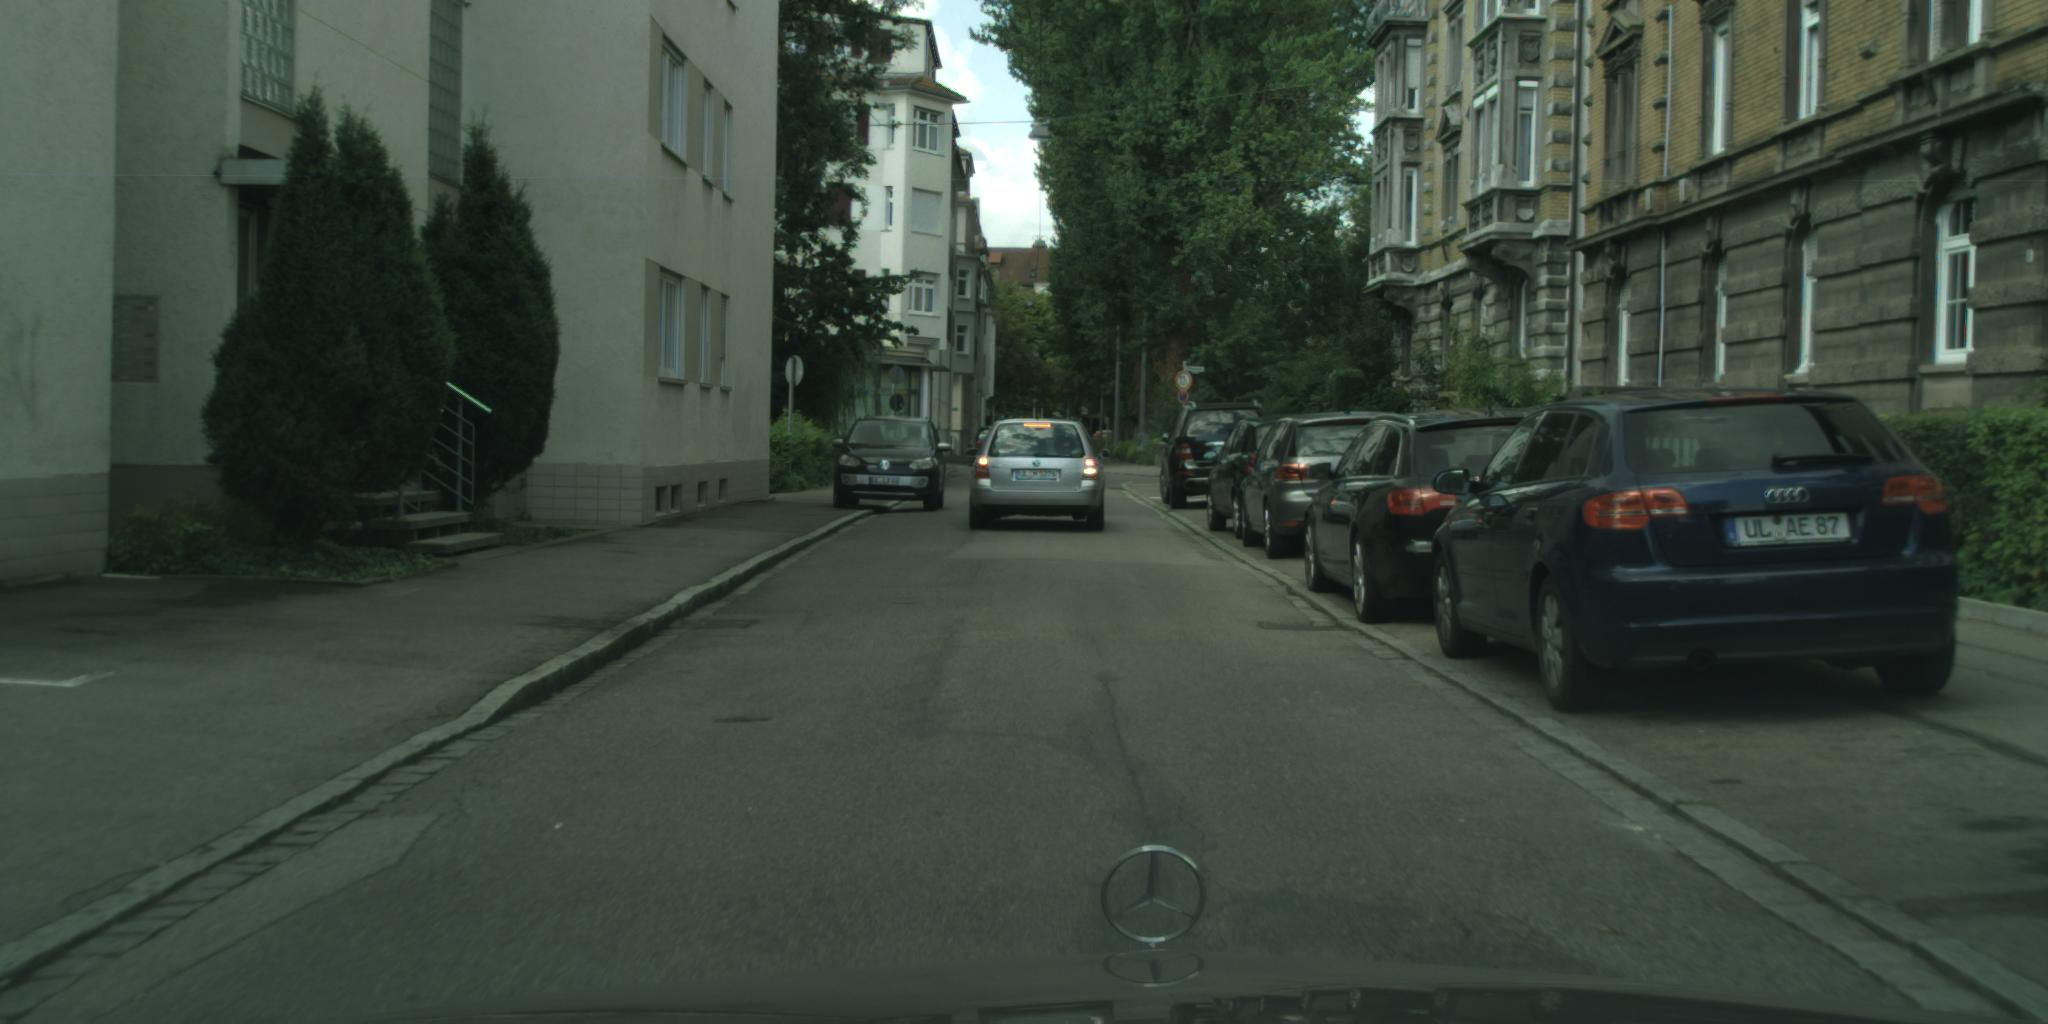car: (1432, 388, 1960, 712), (1304, 409, 1541, 624), (1229, 411, 1398, 559), (970, 419, 1112, 533), (833, 417, 953, 515), (1160, 402, 1268, 509), (1206, 414, 1296, 539), (970, 428, 997, 465), (1092, 431, 1118, 444)
